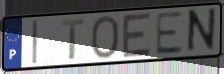E: (121, 11, 153, 61), (154, 10, 184, 57)
I: (31, 19, 39, 66)
N: (185, 6, 218, 56)
O: (90, 14, 121, 61)
T: (61, 17, 86, 62)
